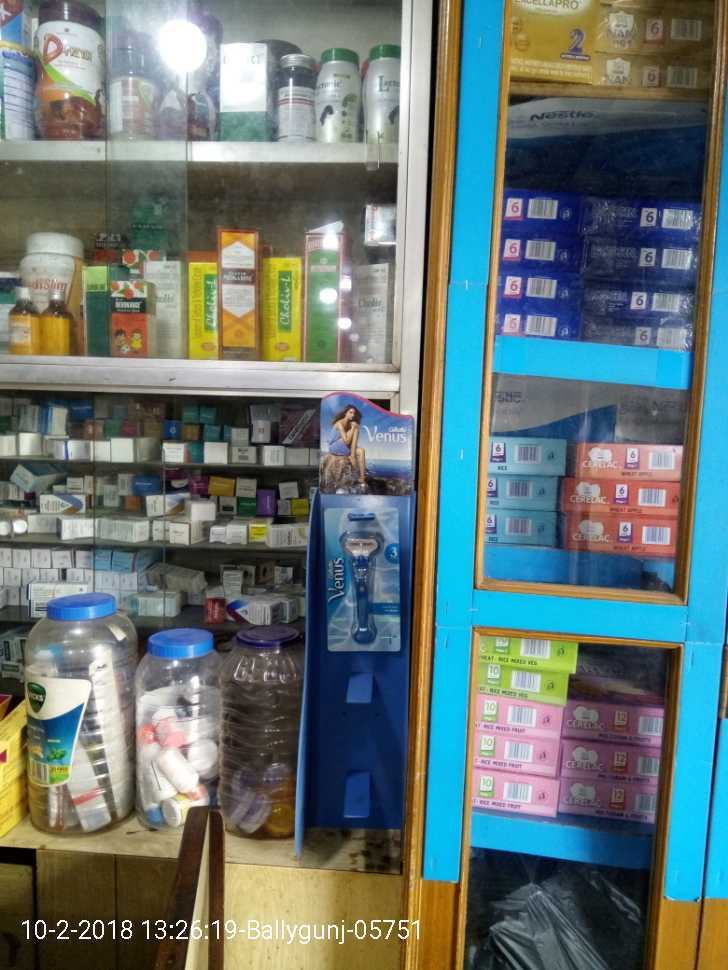venus: (320, 496, 407, 660)
